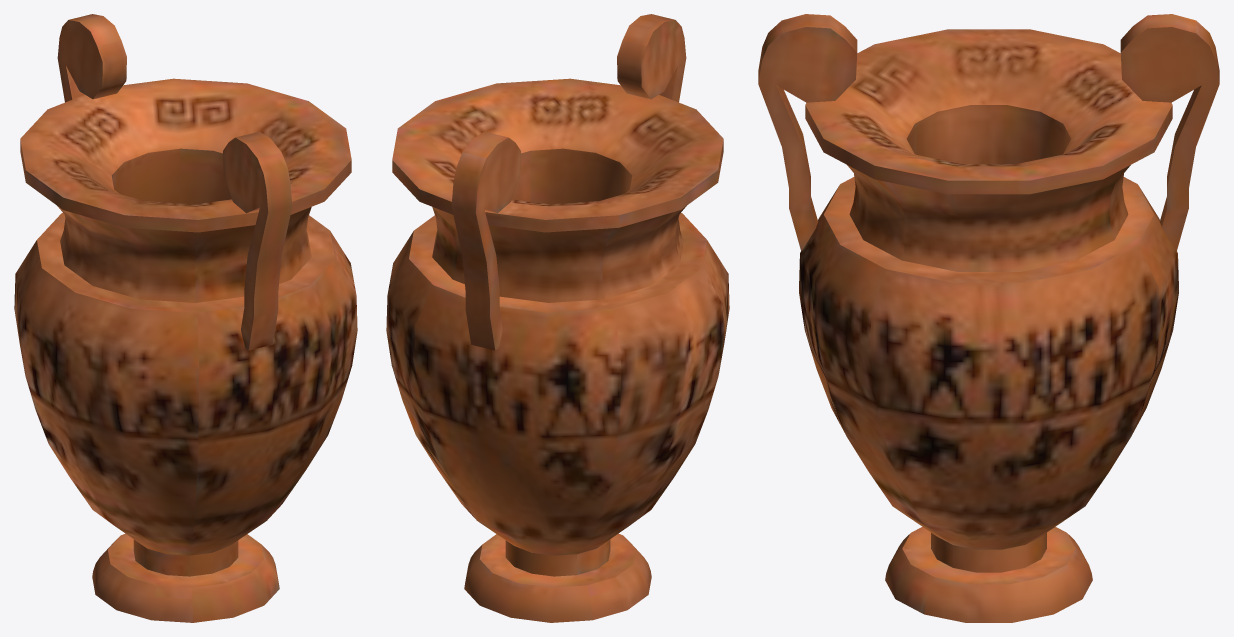
Rendered from SM_vase_01.glb.
3 views of the same model, side by side, from view 1: azimuth 30°, elevation 25°; view 2: azimuth 150°, elevation 25°; view 3: azimuth 270°, elevation 25° (orthographic). The views are drawn at different scales.
Parts seen in each view (by area): view 1: SM_vase_01; view 2: SM_vase_01; view 3: SM_vase_01.
Part boxes in pixels (x1,y1,x2,y2): SM_vase_01: [14, 14, 357, 622]; SM_vase_01: [386, 14, 729, 622]; SM_vase_01: [758, 14, 1219, 622].
Bounding box in the file's own units: 0.5872 × 0.9678 × 0.7309.
Materials: 1 (1 with a texture image).
